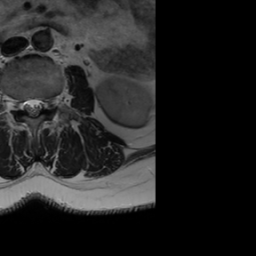CCS_normal: (29, 90, 36, 122)
LFS_normal: (43, 89, 53, 114)
LLS_normal: (36, 90, 43, 119)
RFS_normal: (13, 90, 21, 117)
RLS_normal: (21, 93, 29, 117)
